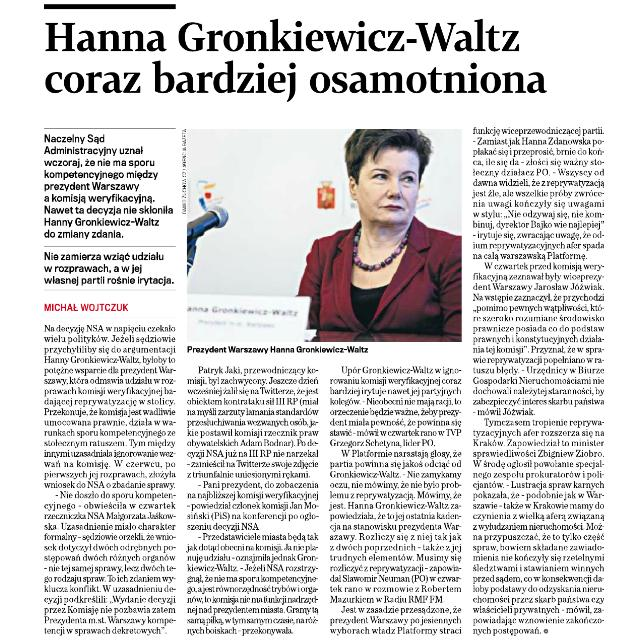author: (40, 298, 132, 314)
body: (467, 124, 603, 636), (39, 321, 178, 637), (323, 360, 463, 638), (183, 362, 321, 638)
caption: (183, 344, 373, 356)
image: (181, 124, 463, 343)
lead: (39, 129, 175, 289)
title: (41, 15, 552, 105)
